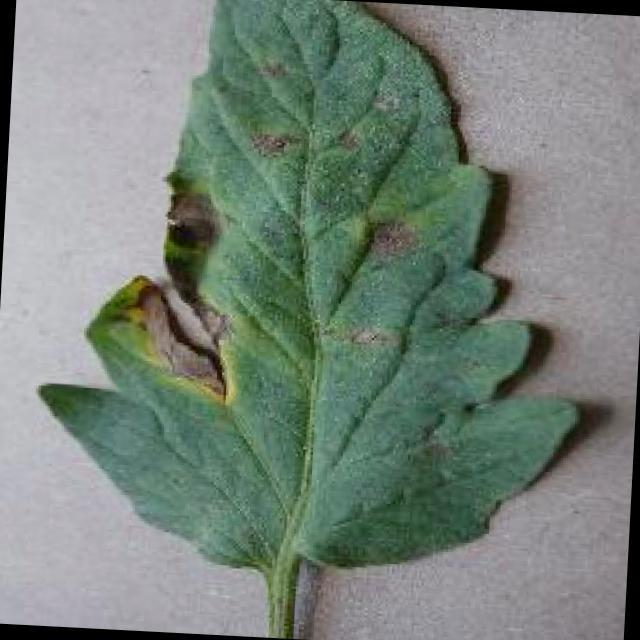Tomato Early blight leaf: (27, 0, 606, 584)
